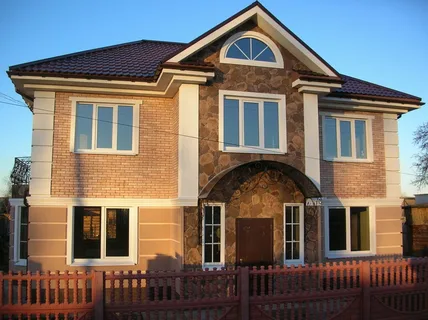private_hause: (29, 51, 406, 255)
